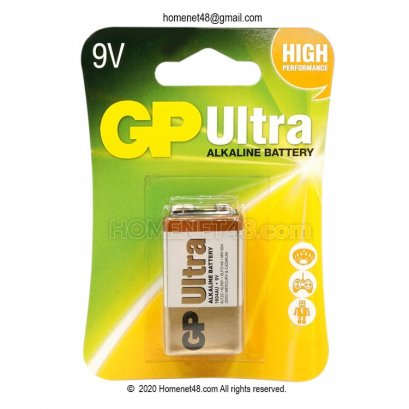Battery: (161, 203, 246, 357)
